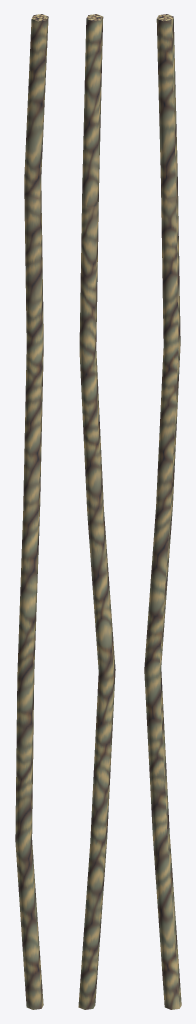
The model's file is SM_Torii_gate_sacred_rope_loose_straight_short_LOD0.fbx.
3 views of the same model, side by side, from view 1: azimuth 30°, elevation 25°; view 2: azimuth 150°, elevation 25°; view 3: azimuth 330°, elevation 25° (orthographic).
Visible parts, largest first — view 1: SM_Torii_gate_sacred_rope_loose_straight_short_LOD0_LOD0; view 2: SM_Torii_gate_sacred_rope_loose_straight_short_LOD0_LOD0; view 3: SM_Torii_gate_sacred_rope_loose_straight_short_LOD0_LOD0.
Part boxes in pixels (bbox=[...]): SM_Torii_gate_sacred_rope_loose_straight_short_LOD0_LOD0: bbox=[15, 14, 48, 1009]; SM_Torii_gate_sacred_rope_loose_straight_short_LOD0_LOD0: bbox=[78, 14, 115, 1009]; SM_Torii_gate_sacred_rope_loose_straight_short_LOD0_LOD0: bbox=[144, 14, 181, 1009].
Bounding box in the file's own units: 7.11 × 6.19 × 227.
